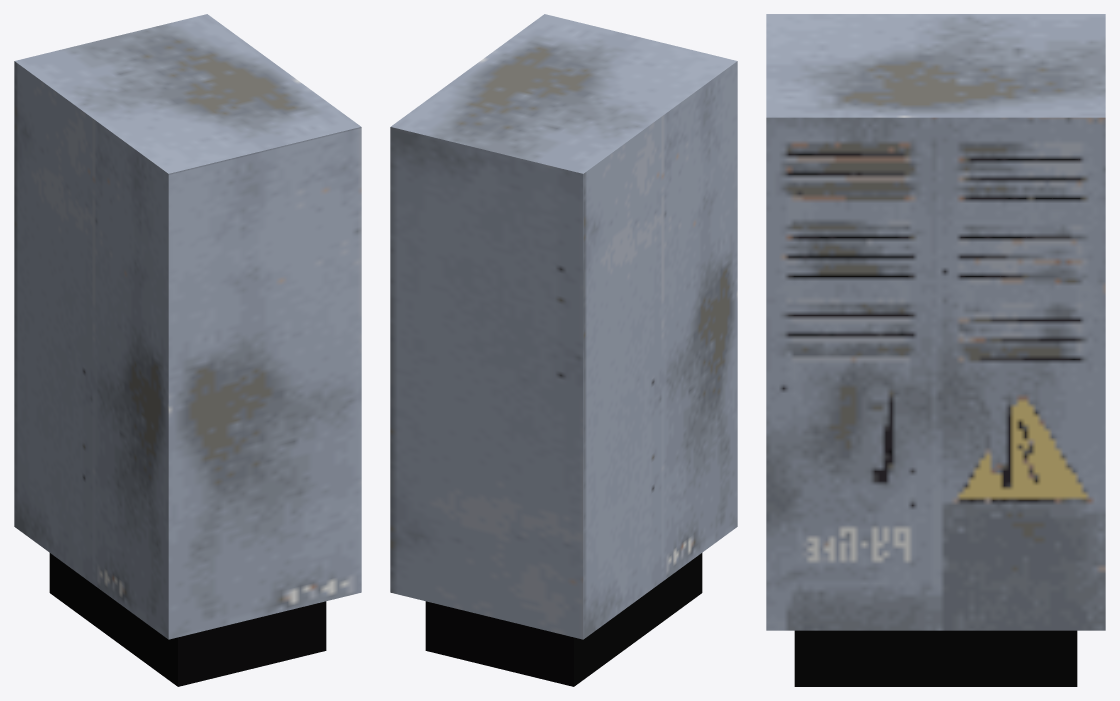
File: retro_transformer.glb
3 views of the same model, side by side, from view 1: azimuth 30°, elevation 25°; view 2: azimuth 150°, elevation 25°; view 3: azimuth 270°, elevation 25° (orthographic). The views are drawn at different scales.
Visible parts, largest first — view 1: Transformer; view 2: Transformer; view 3: Transformer.
Part boxes in pixels (<box>): Transformer: <box>14,14,361,686</box>; Transformer: <box>390,14,737,686</box>; Transformer: <box>766,14,1105,686</box>.
Size of the model in its own units: 0.6398 by 1.67 by 0.8858.
Materials: 1 (1 with a texture image).
